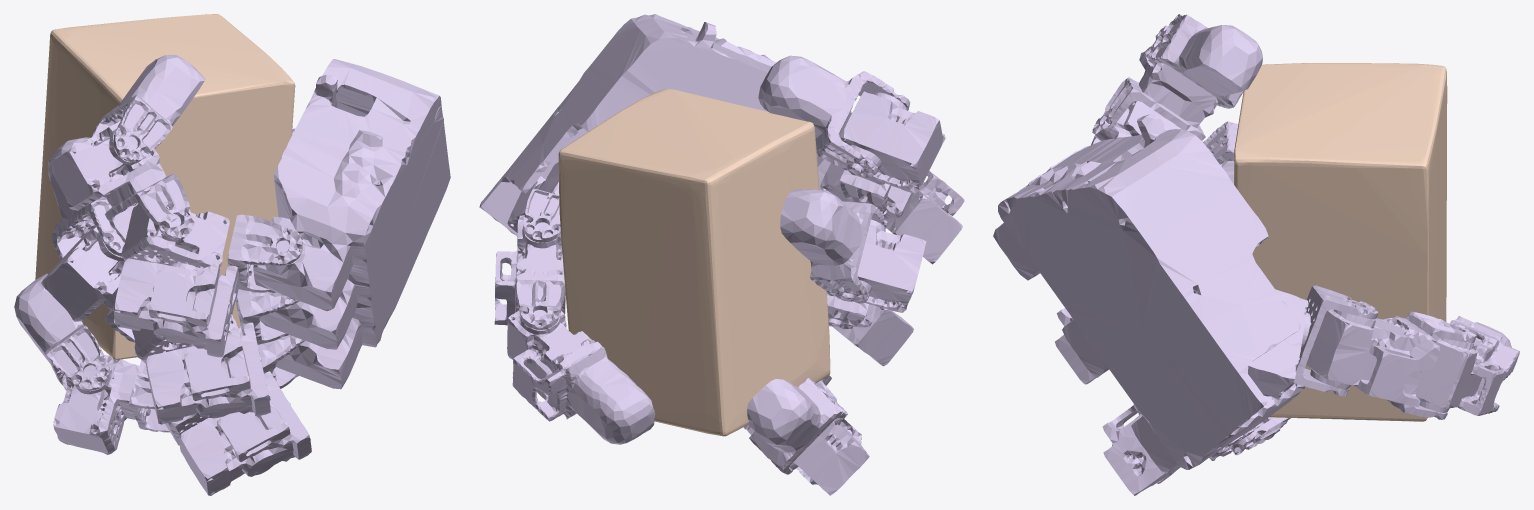
File: 98cd38911ca366-closed.glb
3 renders of one model, left to right at view 1: azimuth 30°, elevation 25°; view 2: azimuth 150°, elevation 25°; view 3: azimuth 270°, elevation 25°, orthographic. The views are drawn at different scales.
Parts seen in each view (by area): view 1: LEAP_hand, world; view 2: LEAP_hand, world; view 3: LEAP_hand, world.
Part boxes in pixels (box(x1,y1,x2,y2)): LEAP_hand: box(14, 55, 450, 495); world: box(35, 14, 295, 359); LEAP_hand: box(479, 14, 964, 495); world: box(558, 89, 830, 436); LEAP_hand: box(993, 14, 1519, 495); world: box(1234, 63, 1447, 421).
Bounding box in the file's own units: 0.197 × 0.1877 × 0.1993.
